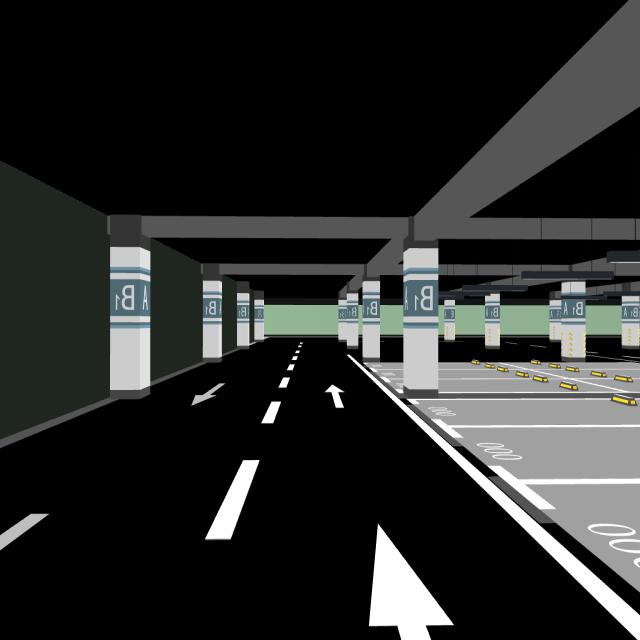simu_pillar: (110, 247, 150, 398), (404, 248, 438, 396), (561, 280, 585, 362), (202, 280, 222, 362), (362, 280, 380, 361), (485, 295, 500, 348), (238, 294, 249, 346)
